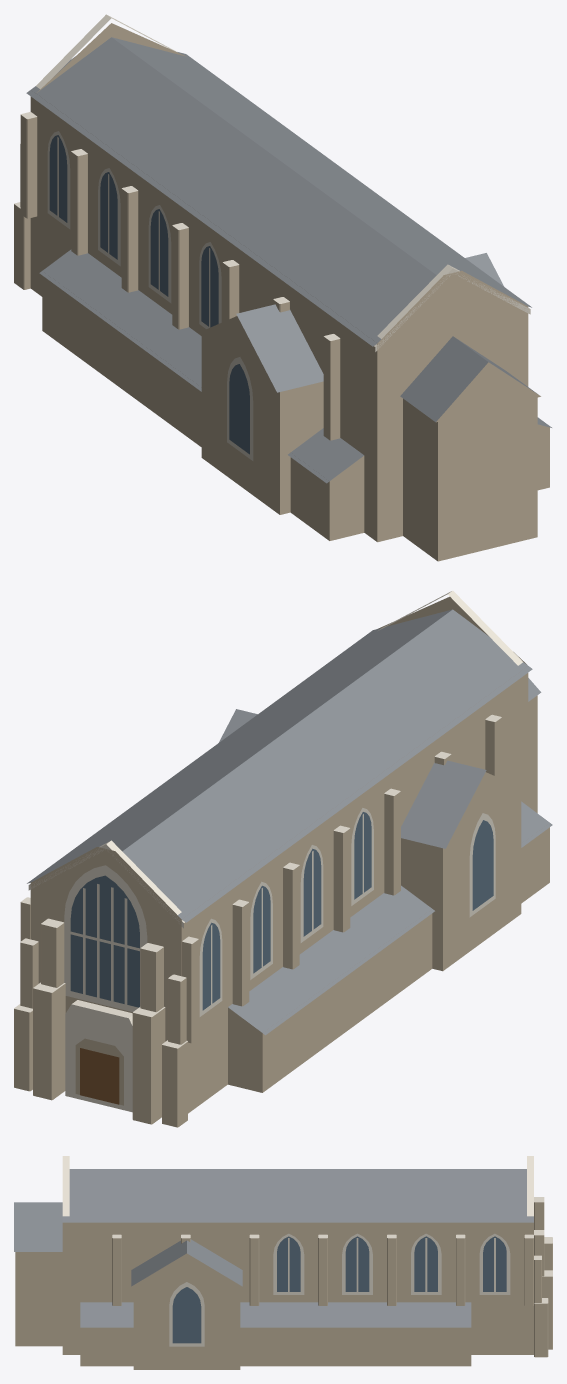
Rendered from nash-wightman-chapel.glb.
The picture shows the model from 3 angles, top to bottom: view 1: azimuth 30°, elevation 25°; view 2: azimuth 150°, elevation 25°; view 3: azimuth 270°, elevation 25°; orthographic projection. The views are drawn at different scales.
Visible parts, largest first — view 1: Wightman Chapel; view 2: Wightman Chapel; view 3: Wightman Chapel.
Boxes of the visible parts, x1,y1,x2,y2 form: Wightman Chapel: [14, 14, 551, 561]; Wightman Chapel: [14, 590, 552, 1127]; Wightman Chapel: [14, 1156, 552, 1369].
Size of the model in its own units: 16.6 by 16.2 by 45.5.
